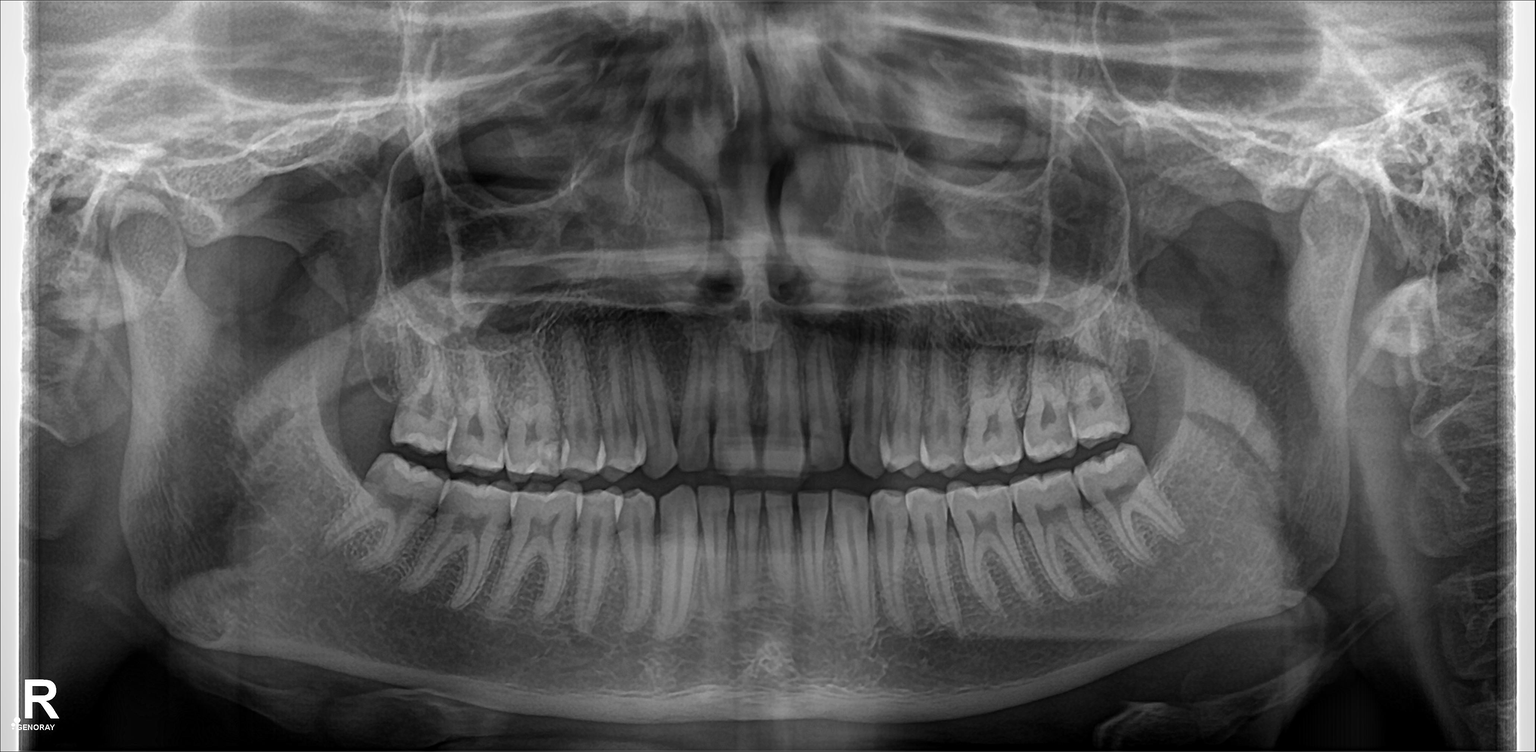Missing Tooth: (345, 329, 401, 432), (1117, 339, 1171, 423)
